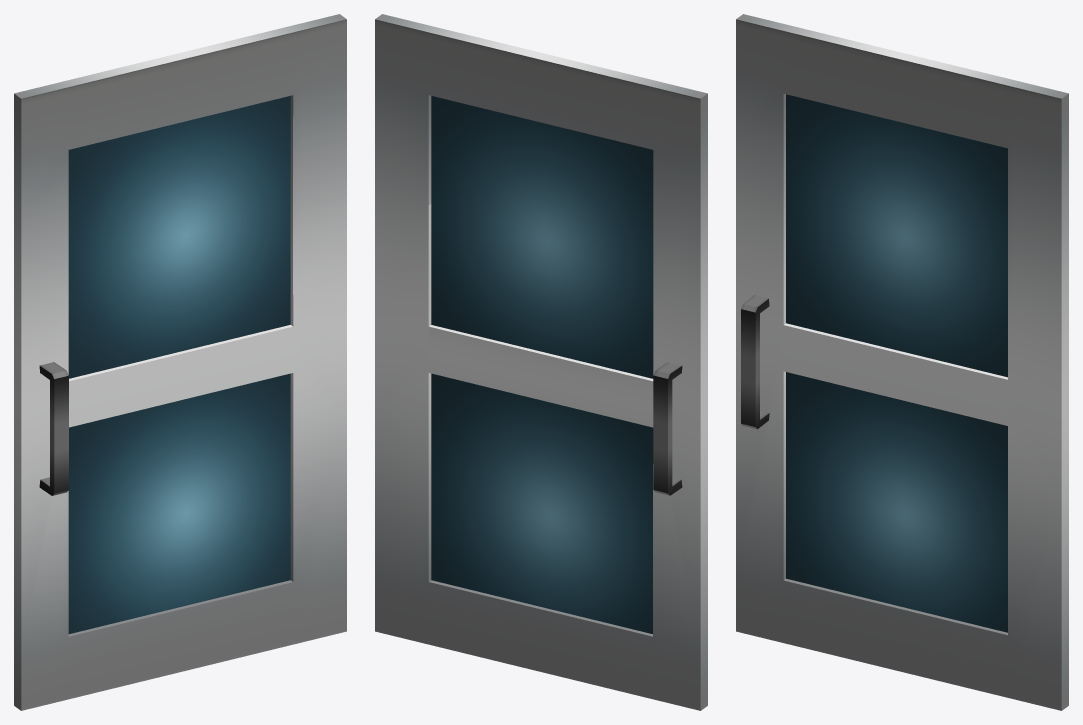
Rendered from Door_B.FBX.
The picture shows the model from 3 angles, left to right: view 1: azimuth 30°, elevation 25°; view 2: azimuth 150°, elevation 25°; view 3: azimuth 330°, elevation 25°; orthographic projection.
Parts seen in each view (by area): view 1: Door004; view 2: Door004; view 3: Door004.
Part boxes in pixels (bbox=[...]): Door004: bbox=[14, 14, 346, 710]; Door004: bbox=[375, 14, 707, 710]; Door004: bbox=[736, 14, 1068, 710].
Bounding box in the file's own units: 207 × 372 × 38.41.
